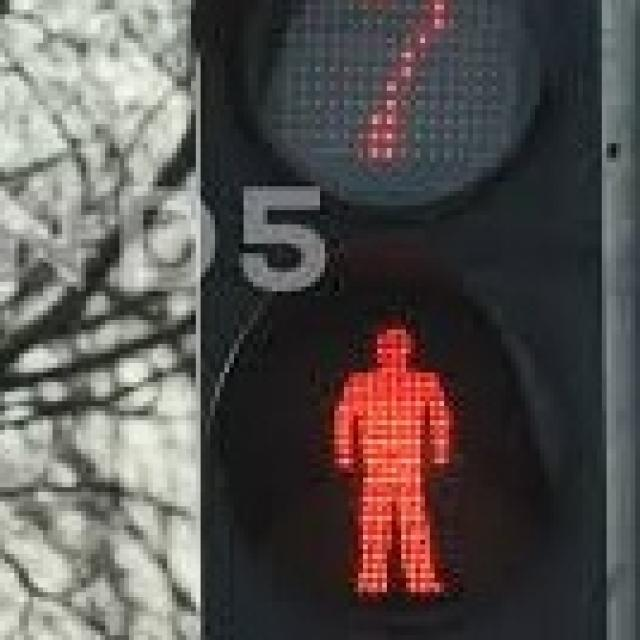red-crossing: (301, 296, 482, 607)
